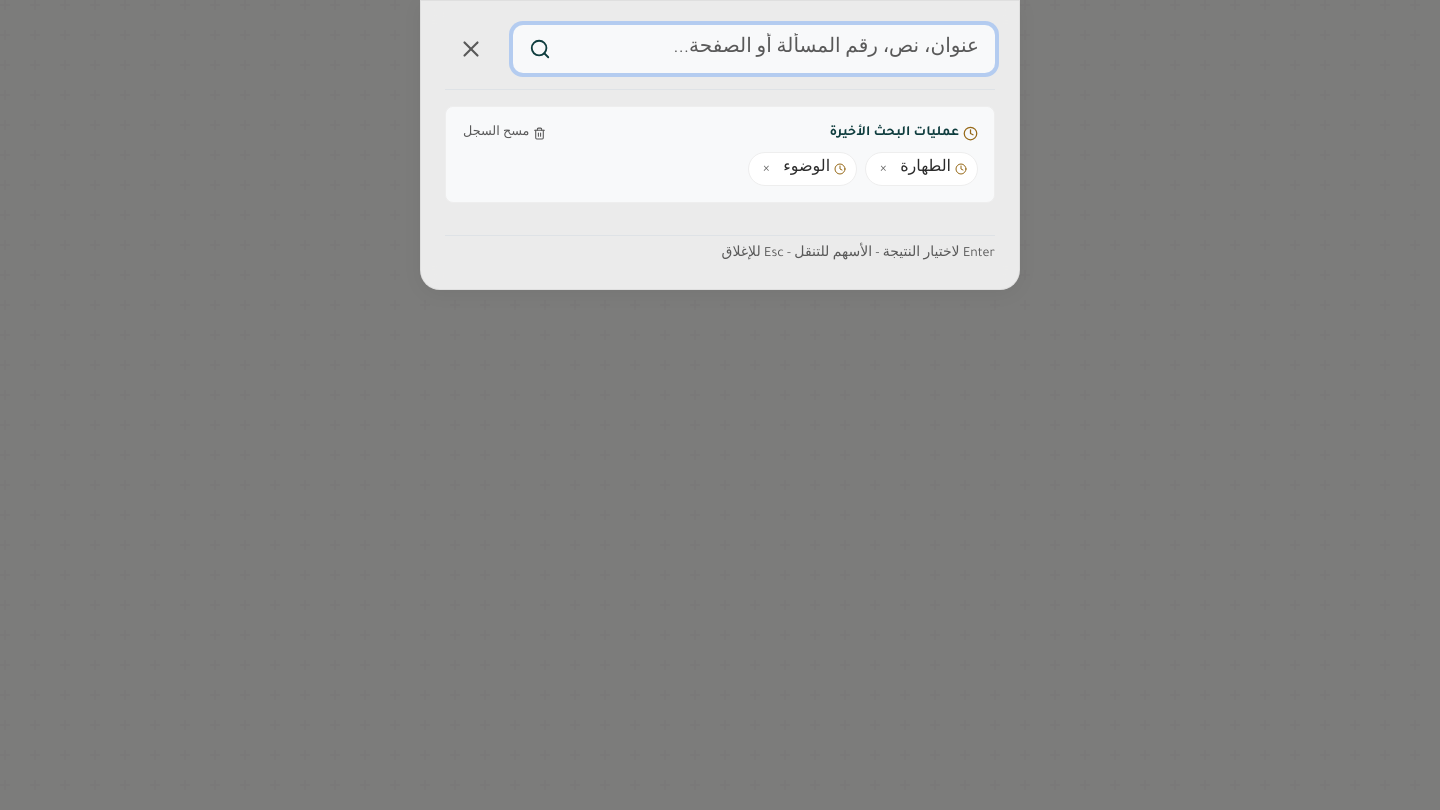
Test case: SearchModal Component › النقر على مسح السجل يفرغ سجل البحث كاملاً
Click the button with aria-label "مسح سجل البحث بالكامل": (505, 134) [462,123,547,144]
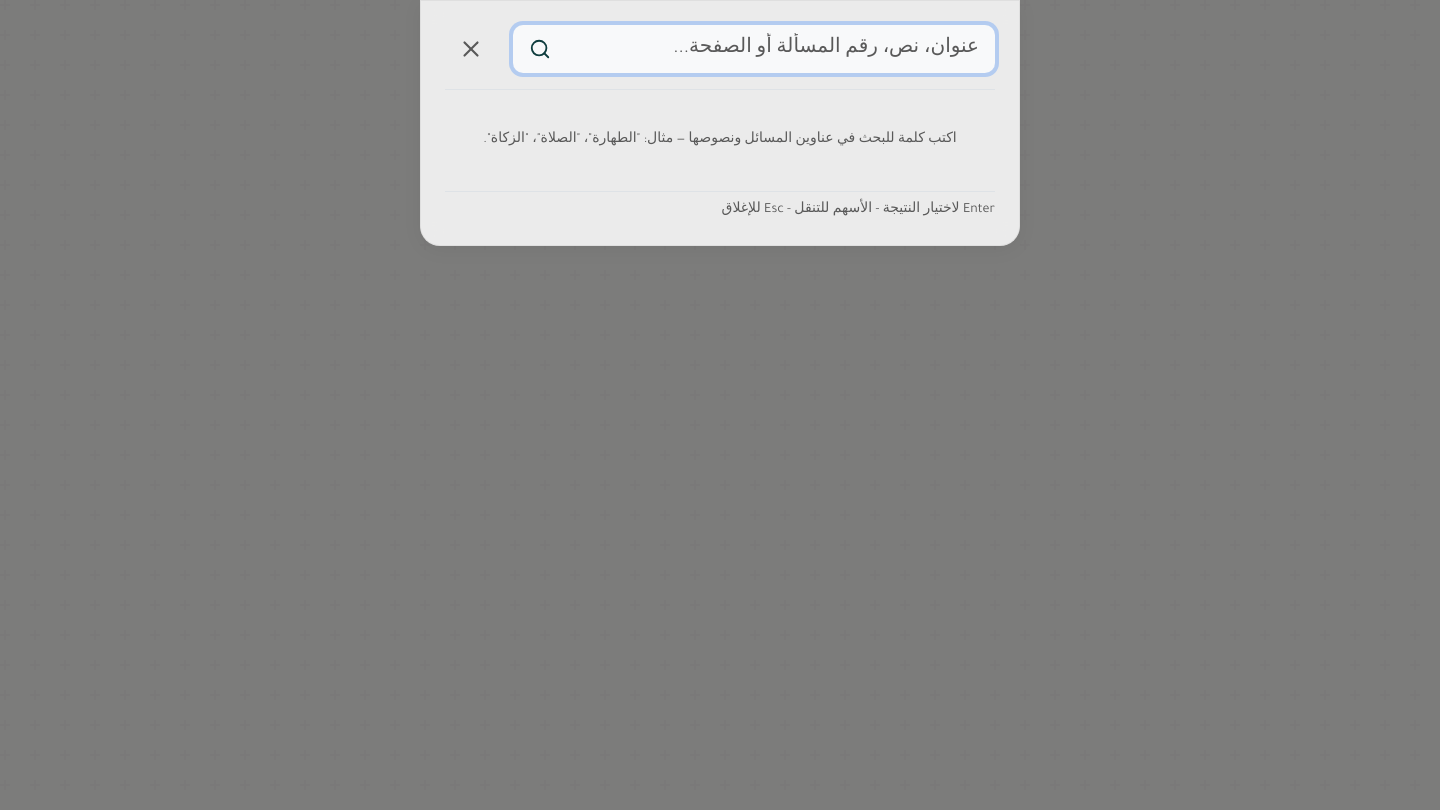
Expected: the text "عمليات البحث الأخيرة" is gone
